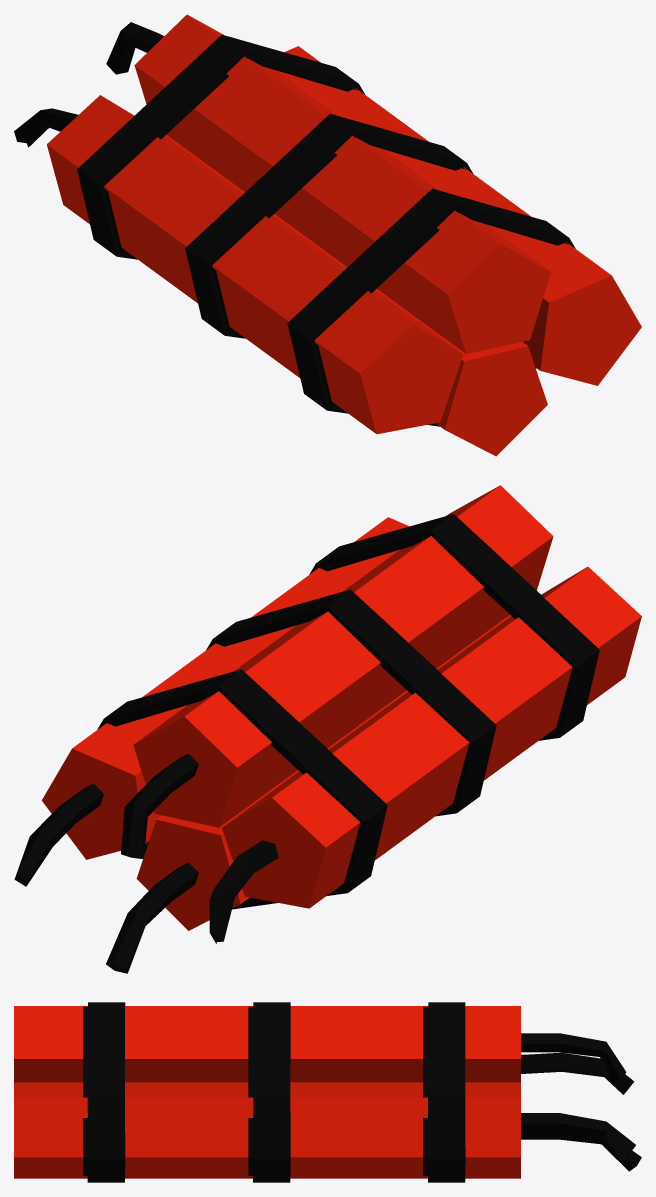
The model's file is low_poly_dinamite (1).glb.
The picture shows the model from 3 angles, top to bottom: view 1: azimuth 30°, elevation 25°; view 2: azimuth 150°, elevation 25°; view 3: azimuth 270°, elevation 25°; orthographic projection. The views are drawn at different scales.
Visible parts, largest first — view 1: DInamite_28; view 2: DInamite_28; view 3: DInamite_28.
Part boxes in pixels (left/top/right/bottom): DInamite_28: left=14, top=14, right=641, bottom=456; DInamite_28: left=14, top=485, right=641, bottom=973; DInamite_28: left=14, top=1002, right=641, bottom=1182.
Size of the model in its own units: 0.4088 by 0.2975 by 0.9441.
